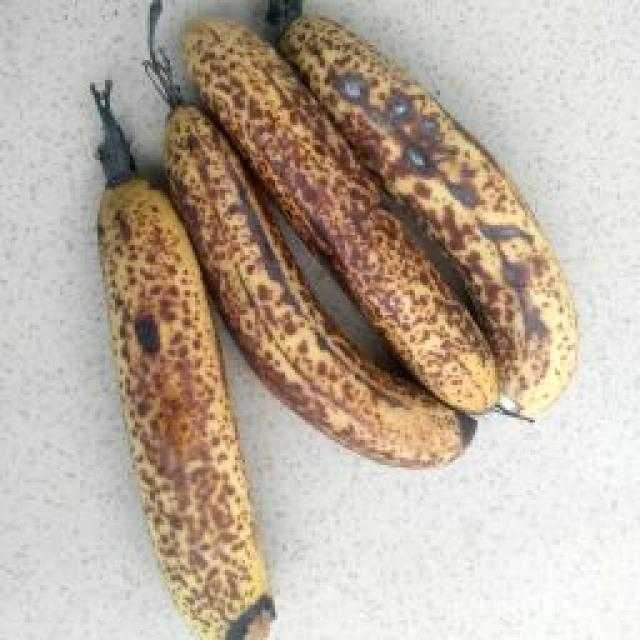banana: (127, 150, 558, 606)
